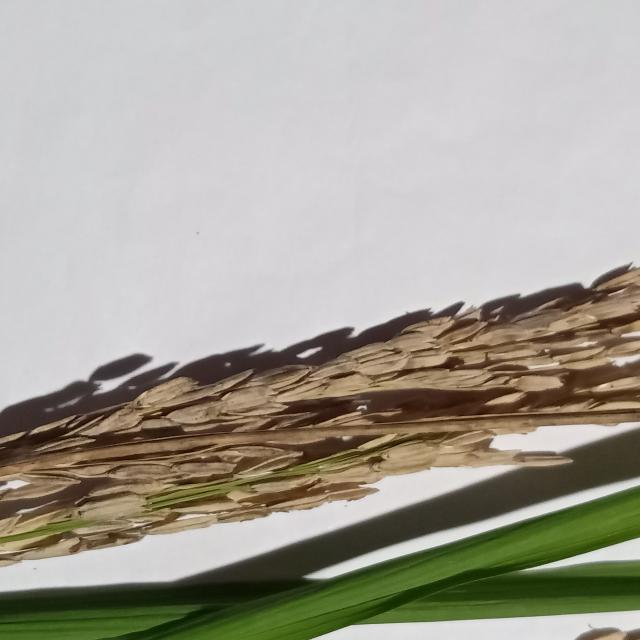Neck_Blast: (0, 270, 640, 570)
